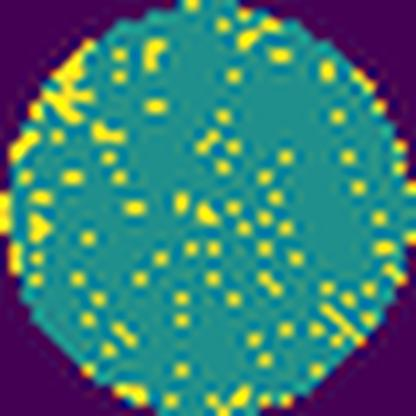Edge-Loc: (29, 37, 107, 130)
